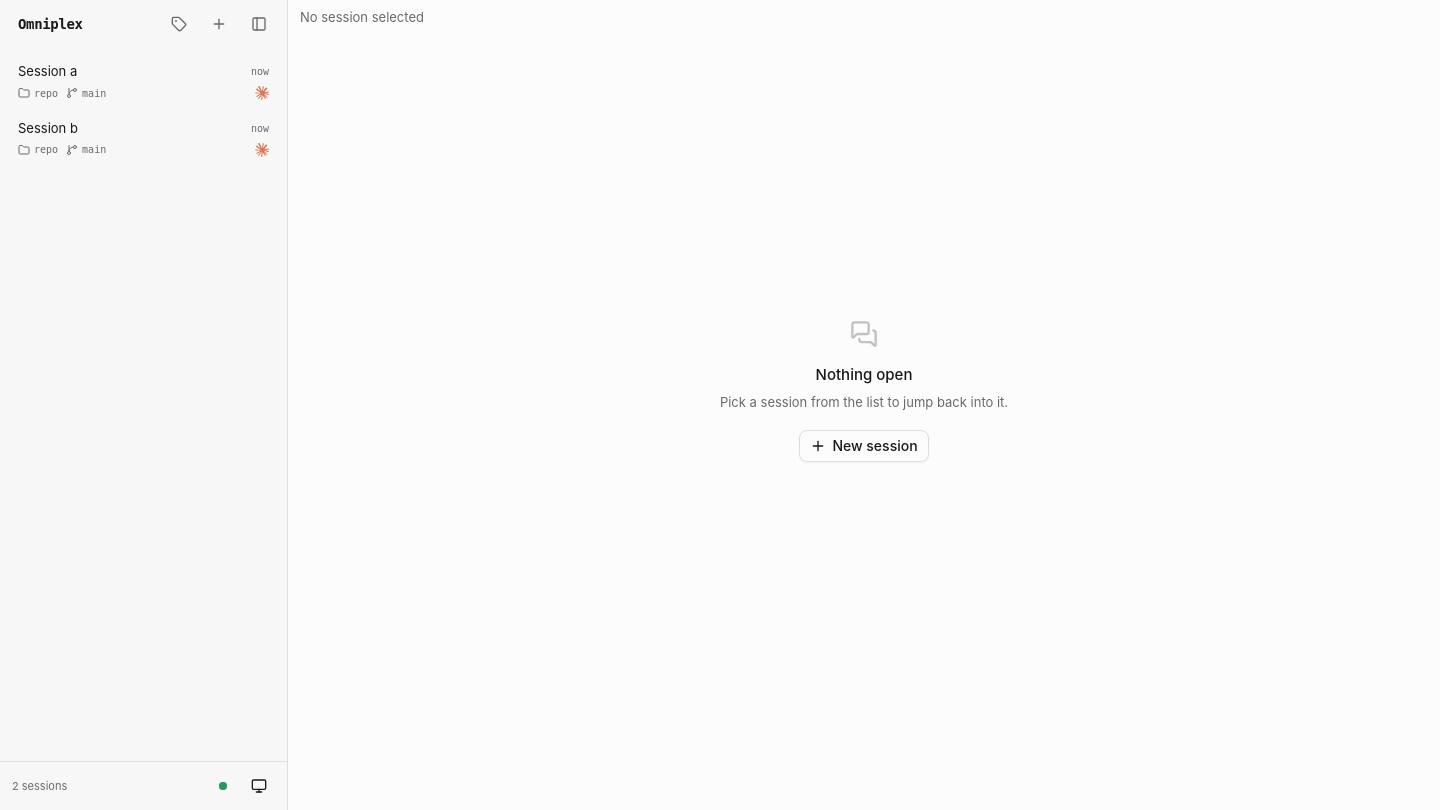
it: composer drafts › supports arrow selection and Tab completion without sending
Click the text "Session a" at (48, 71), box [18,63,77,79]
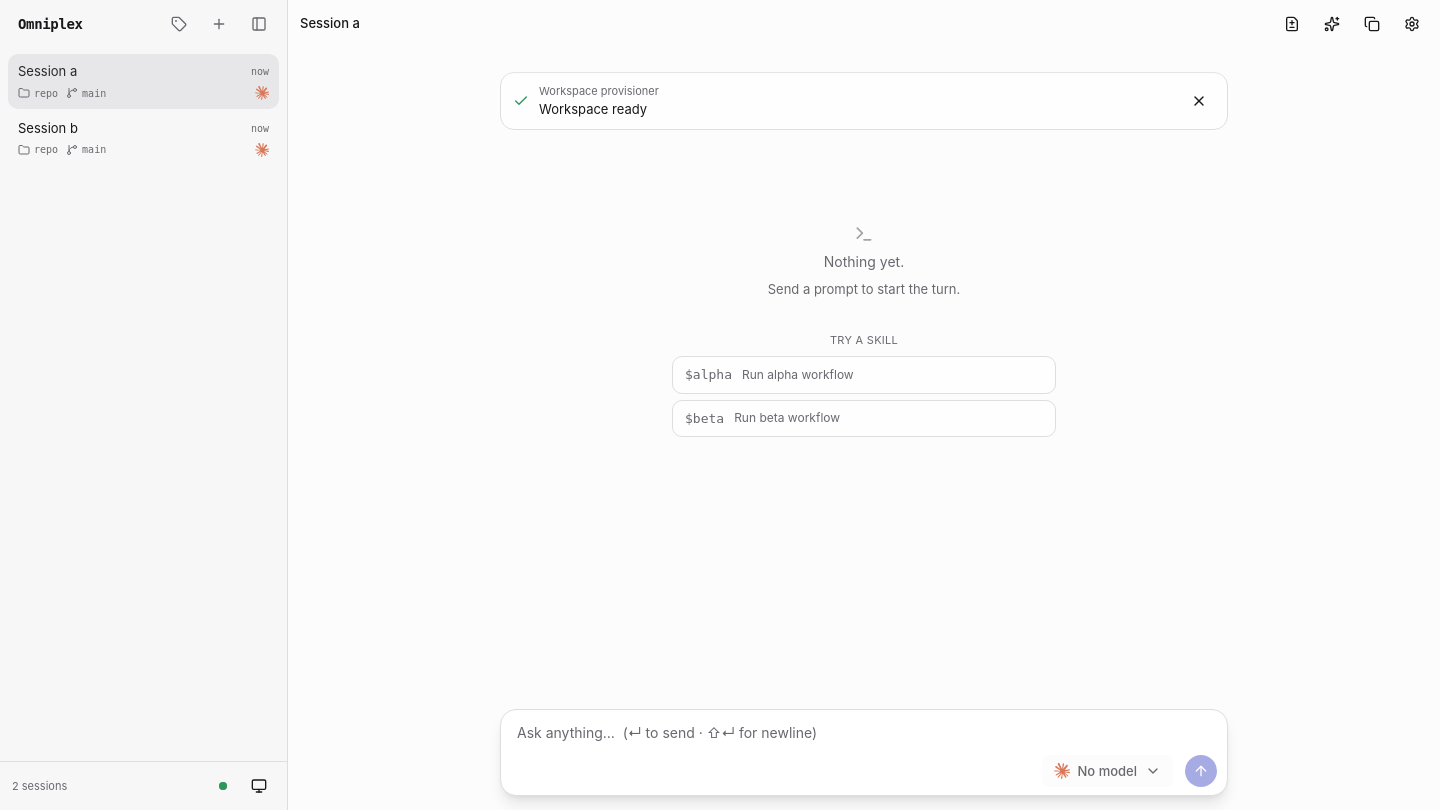
Type "$" into the text box named "Message" at (864, 730), box [501,710,1227,749]
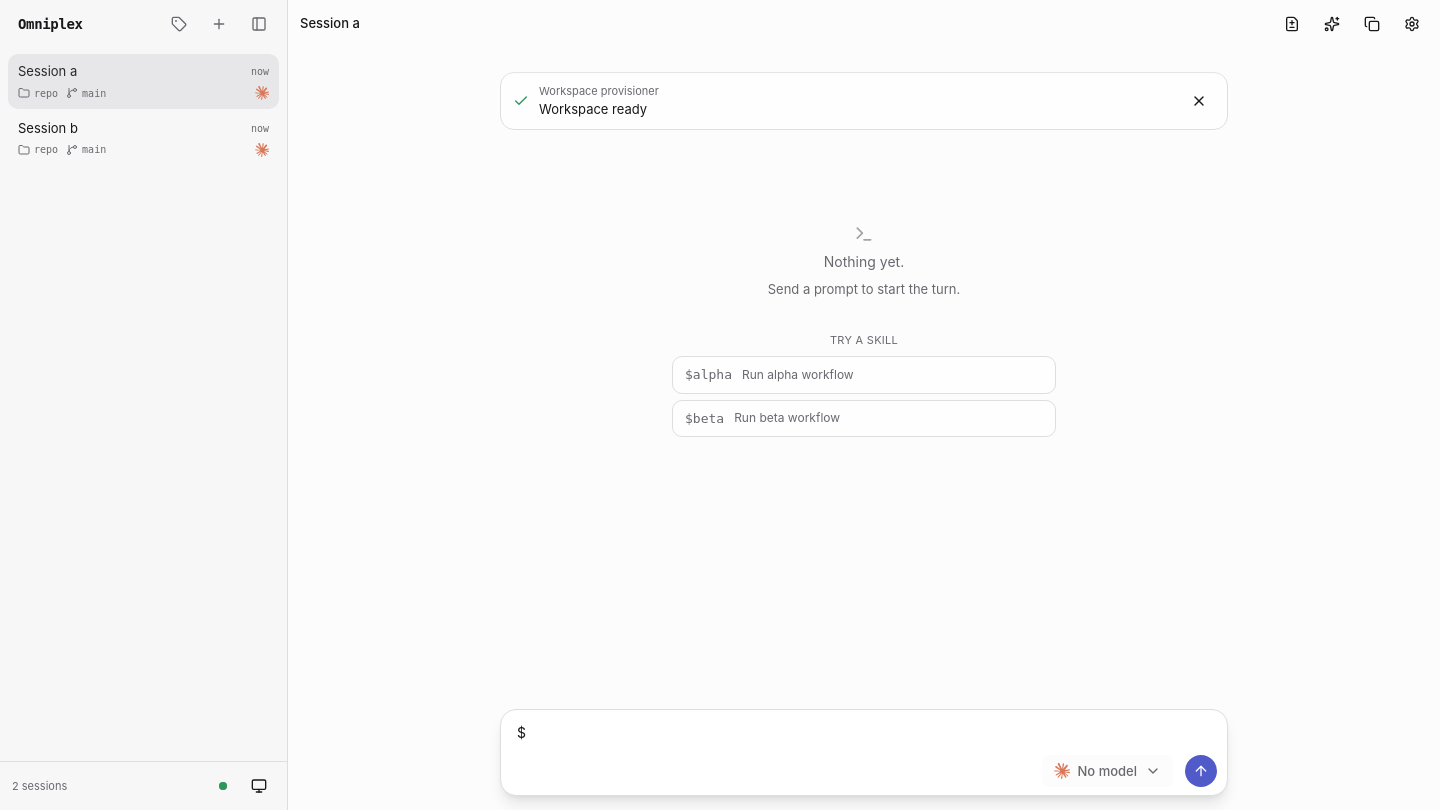
Press ArrowDown in the text box named "Message", box [501,710,1227,749]
Press Enter in the text box named "Message", box [501,710,1227,749]
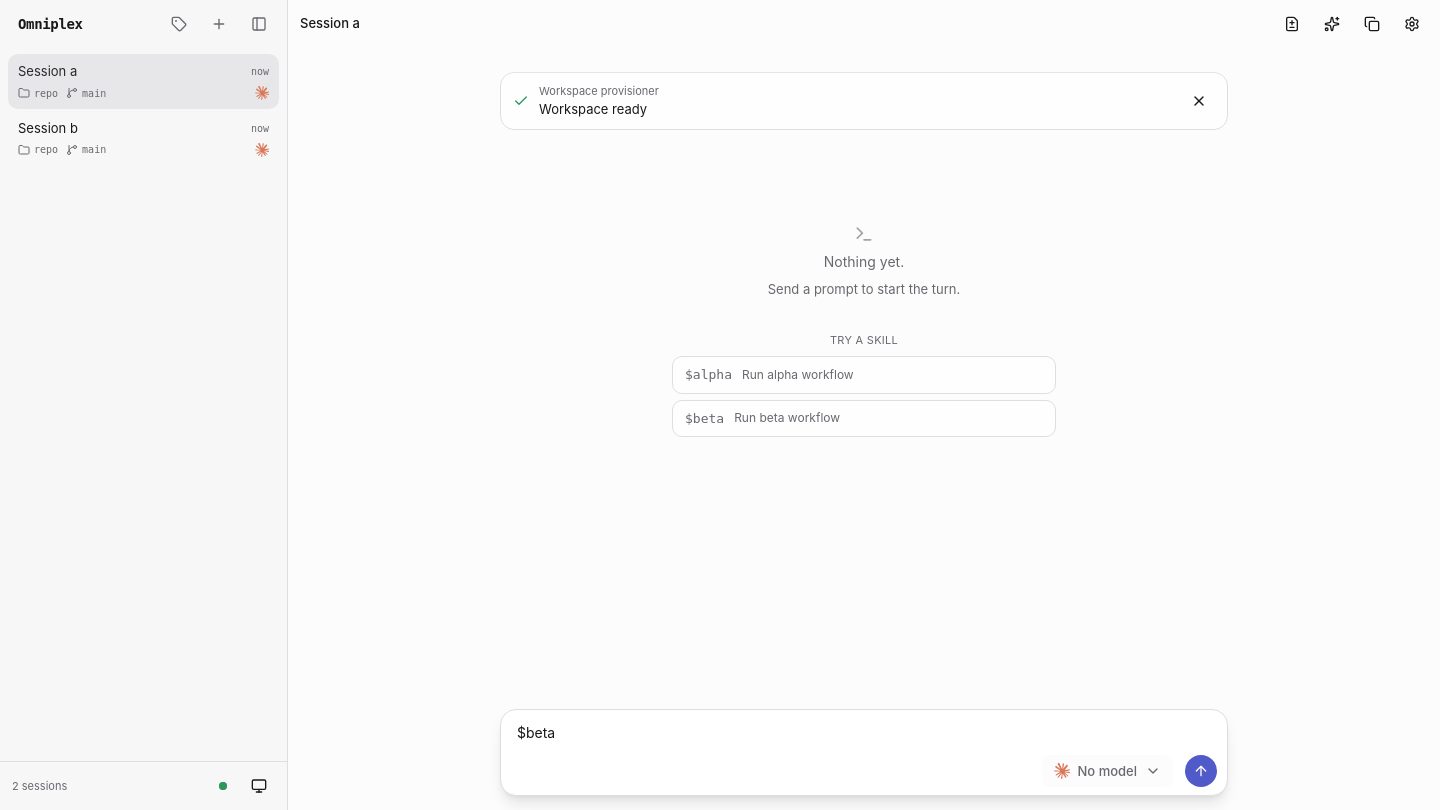
Expected: the text box named "Message" holds "$beta "
Replace the text in the text box named "Message" with "$al" at (864, 730), box [501,710,1227,749]
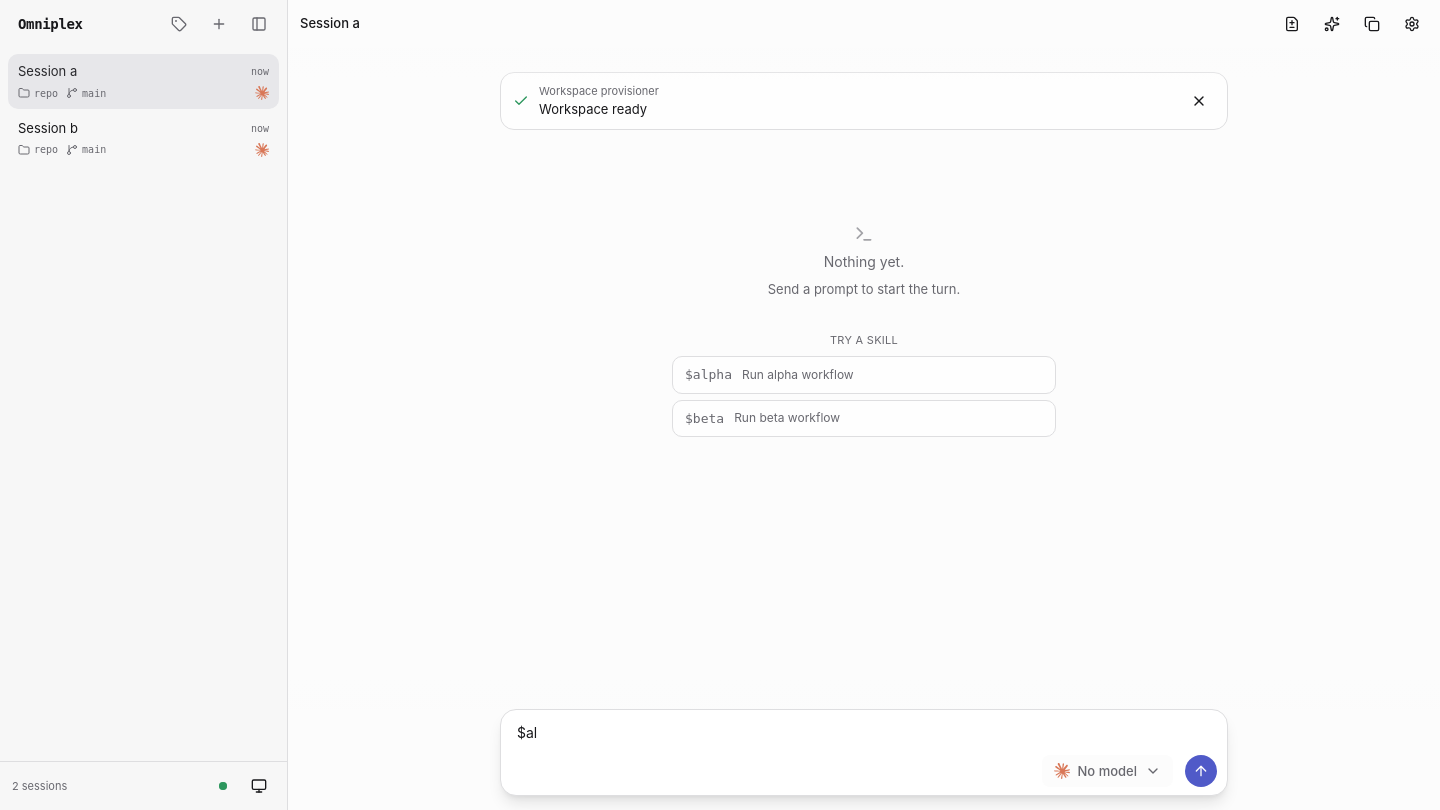
Press Tab in the text box named "Message", box [501,710,1227,749]
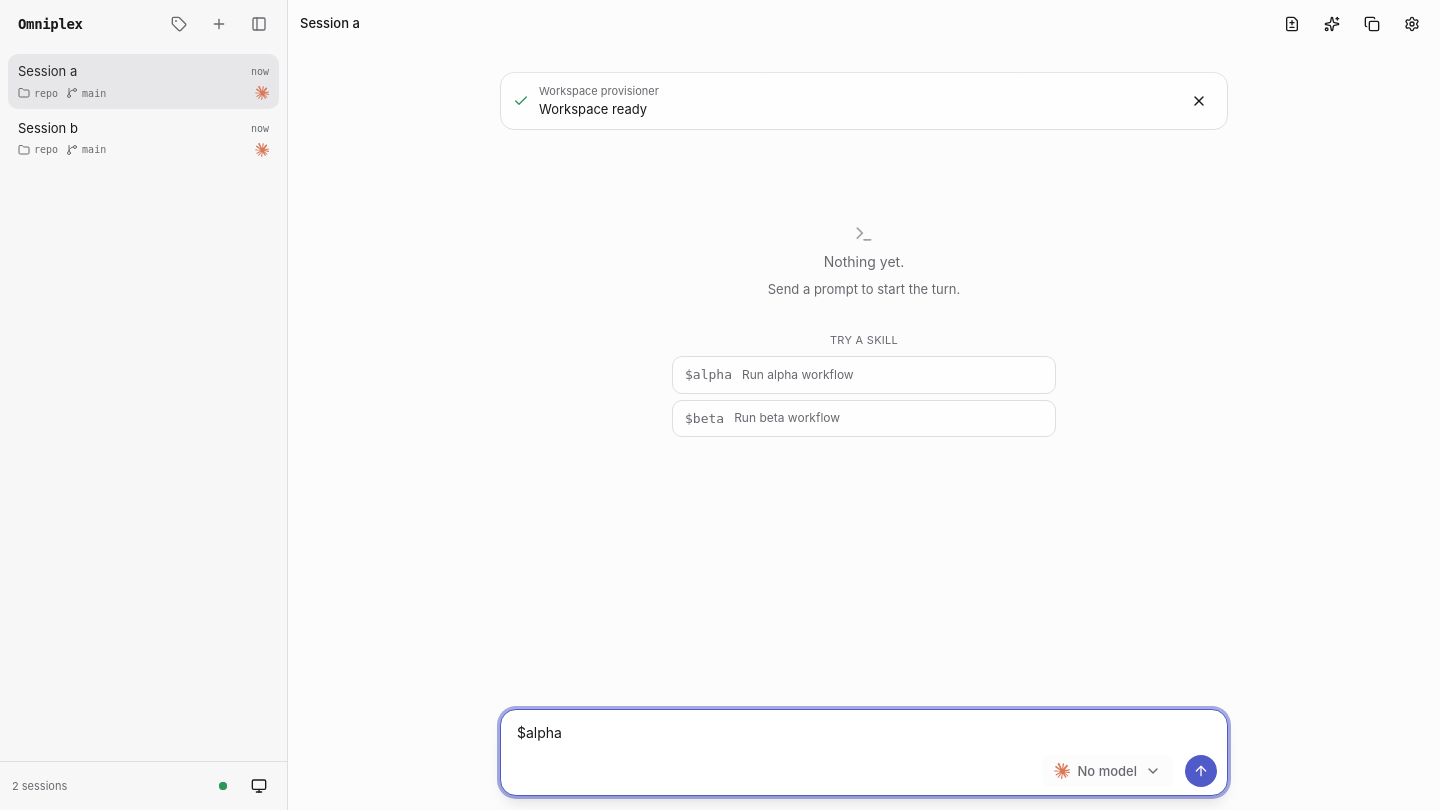
Expected: the text box named "Message" holds "$alpha ", [501,710,1227,749]
